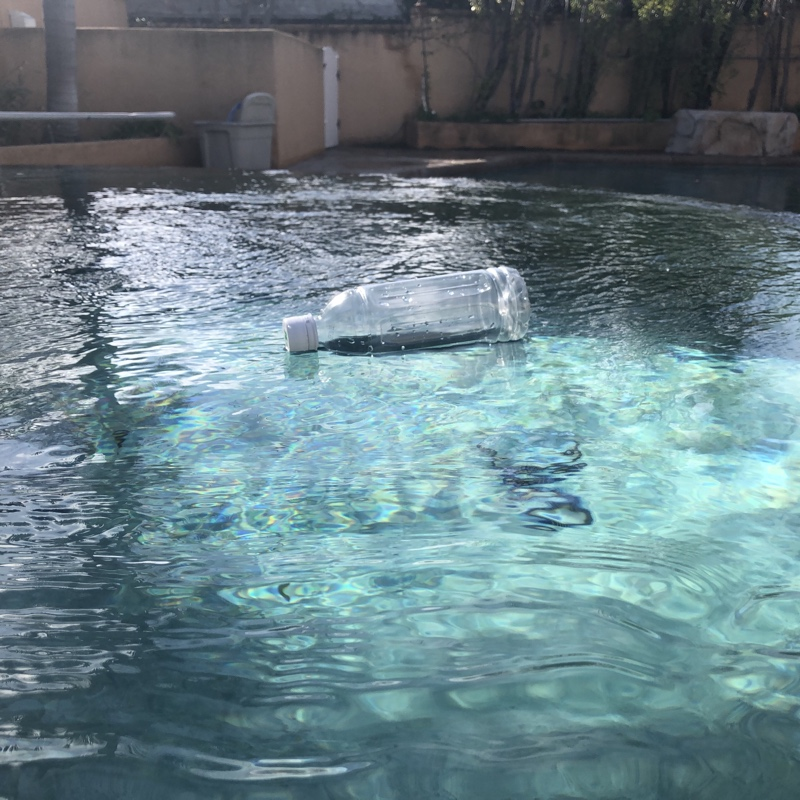Plastic Bottle: (277, 261, 535, 359)
